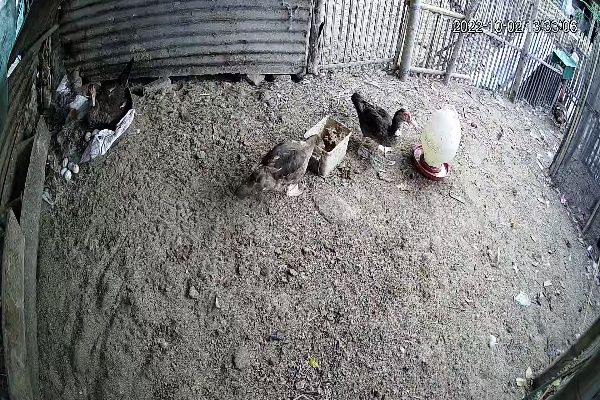Entog: (224, 127, 331, 208), (338, 81, 425, 160), (551, 86, 571, 127)
